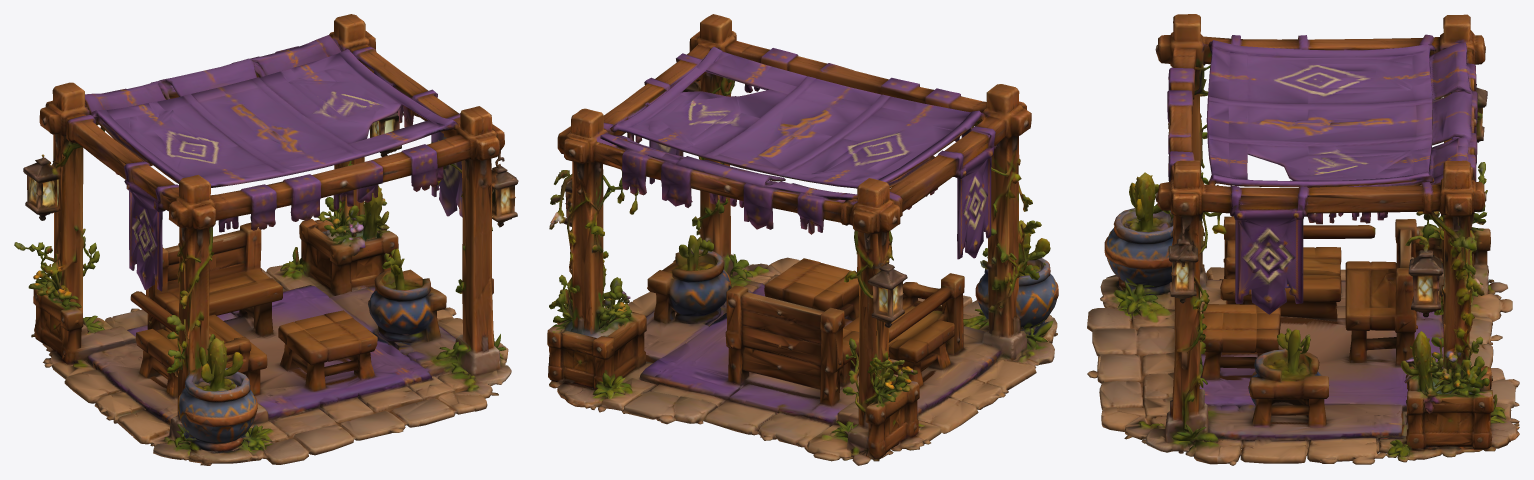
File: cenador_de_madera.glb
3 renders of one model, left to right at view 1: azimuth 30°, elevation 25°; view 2: azimuth 150°, elevation 25°; view 3: azimuth 270°, elevation 25°, orthographic. The views are drawn at different scales.
Visible parts, largest first — view 1: cenador_de_madera; view 2: cenador_de_madera; view 3: cenador_de_madera.
Boxes of the visible parts, bbox=[...] form: cenador_de_madera: bbox=[14, 14, 518, 465]; cenador_de_madera: bbox=[547, 14, 1058, 465]; cenador_de_madera: bbox=[1087, 14, 1519, 465].
Size of what is drawn, in the model's own units: 4.48 by 3 by 4.21.
Materials: 1 (1 with a texture image).
